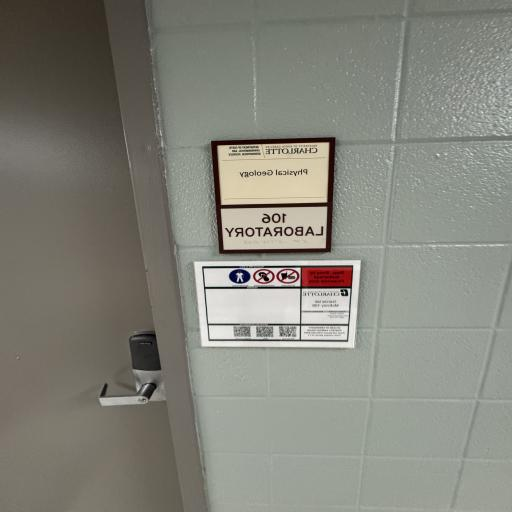door: (0, 11, 169, 512)
room 106 sign: (212, 134, 341, 254)
sign: (196, 252, 362, 352)
